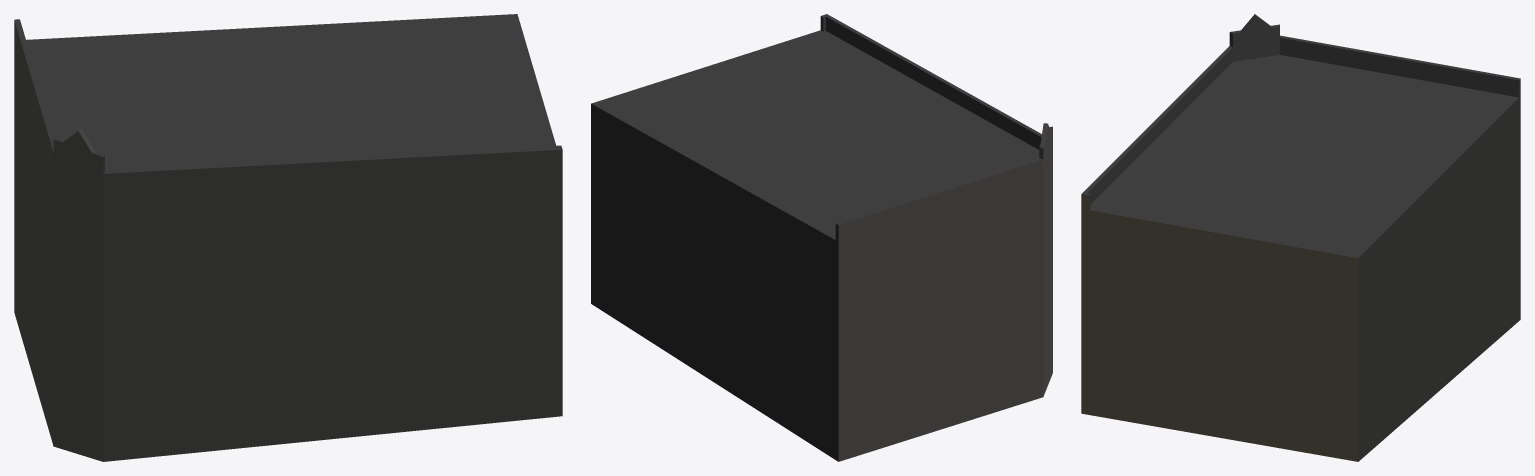
File: midtown-music-hall.glb
3 views of the same model, side by side, from view 1: azimuth 30°, elevation 25°; view 2: azimuth 150°, elevation 25°; view 3: azimuth 270°, elevation 25° (orthographic). The views are drawn at different scales.
Parts seen in each view (by area): view 1: LOD0; view 2: LOD0; view 3: LOD0.
Part boxes in pixels (x1=…): LOD0: x1=14, y1=14, x2=562, y2=461; LOD0: x1=591, y1=14, x2=1052, y2=461; LOD0: x1=1081, y1=14, x2=1520, y2=461.
Size of what is drawn, in the model's own units: 35.22 by 21.37 by 31.85.
Materials: 1 (1 with a texture image).
